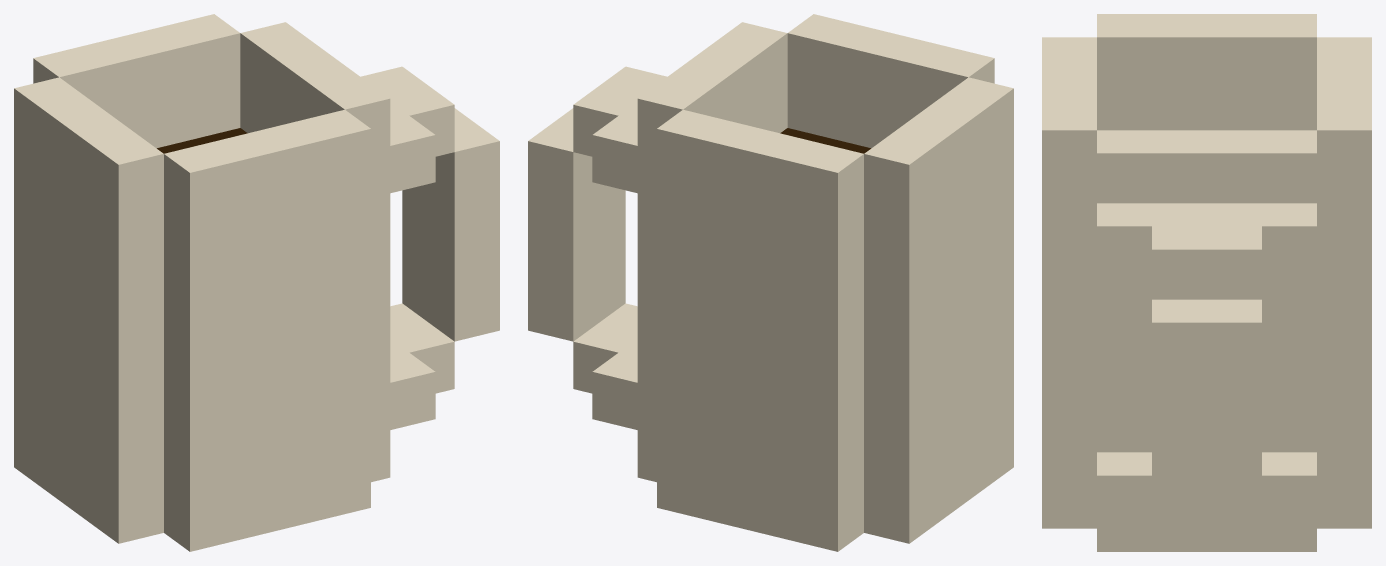
Rendered from Cup of Coffee.obj.
3 views of the same model, side by side, from view 1: azimuth 30°, elevation 25°; view 2: azimuth 150°, elevation 25°; view 3: azimuth 270°, elevation 25° (orthographic). The views are drawn at different scales.
Bounding box in the file's own units: 9 × 8 × 6.
Materials: 1 (1 with a texture image).
